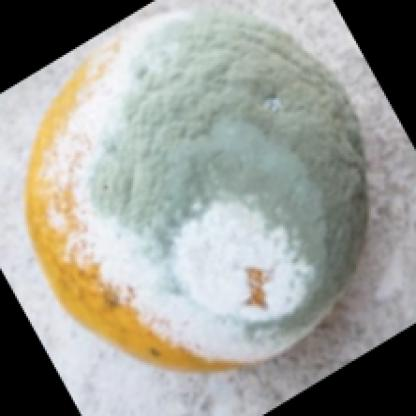rotten: (28, 16, 370, 374)
